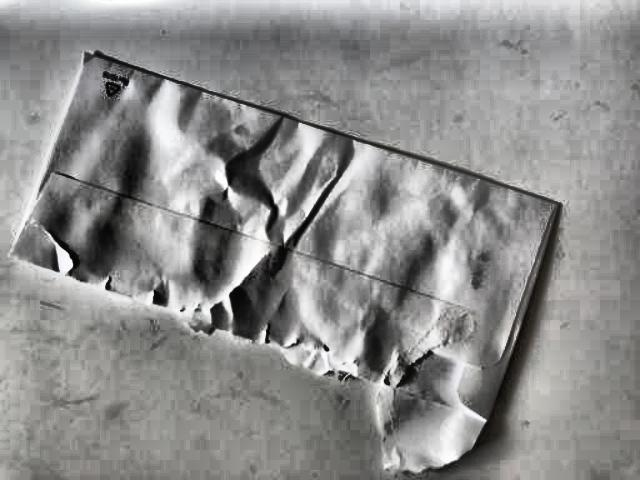Paper: (4, 47, 566, 468)
